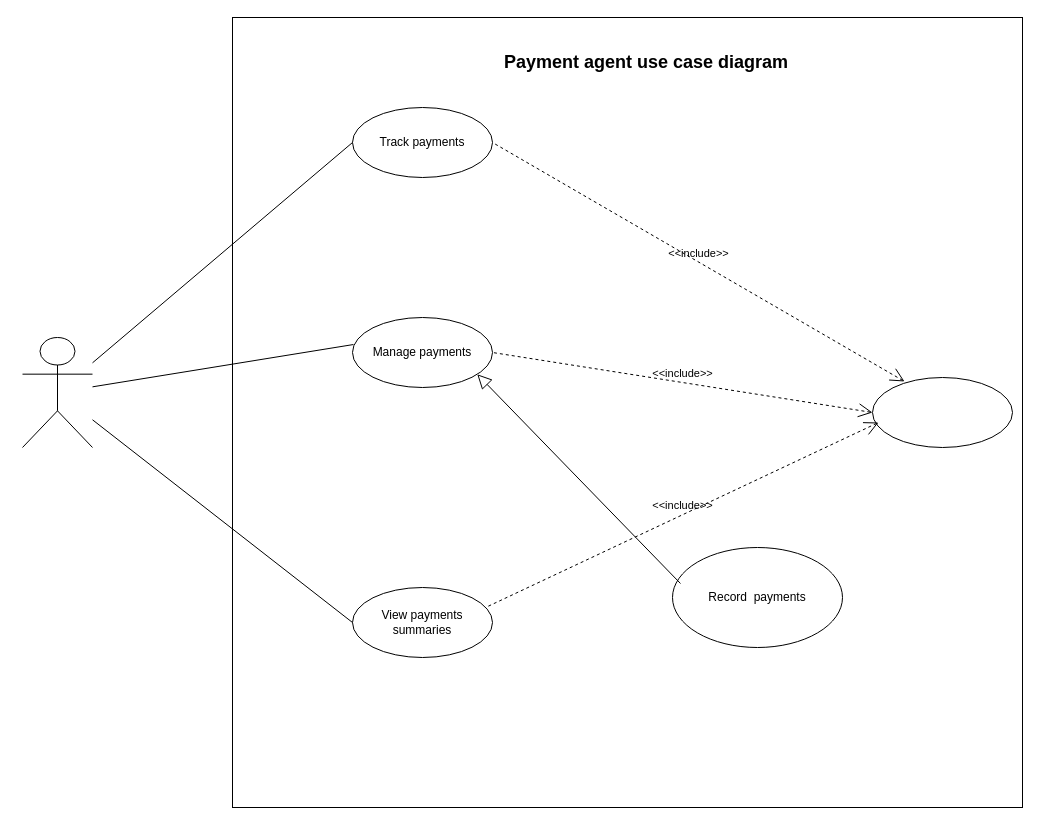
The diagram is 1040 pixels wide and 825 high, and some of its shapes have lost their labels. Here are the shapes that lost their labels. From the top down, the box of each, then its label:
(22, 336, 92, 448): Payment agent
(872, 376, 1012, 448): Authentication
